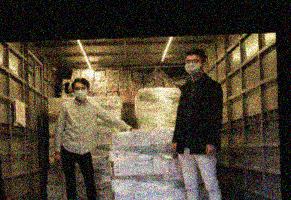with_mask: (184, 57, 204, 77), (72, 84, 88, 100)
